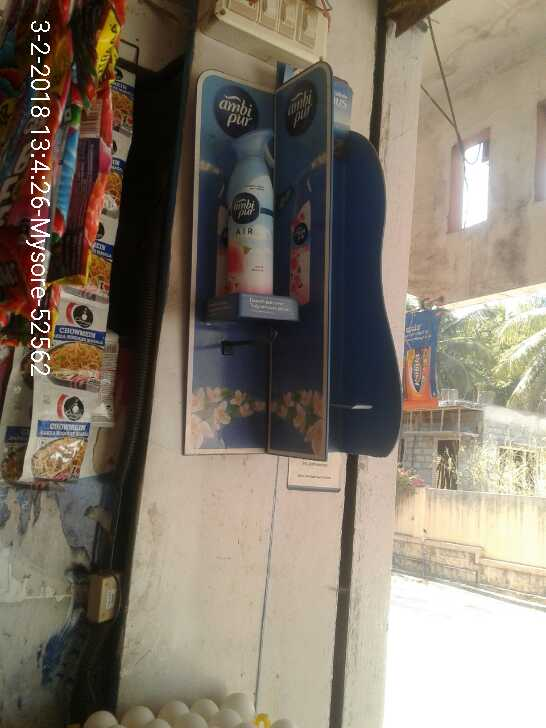home: (225, 129, 277, 295)
